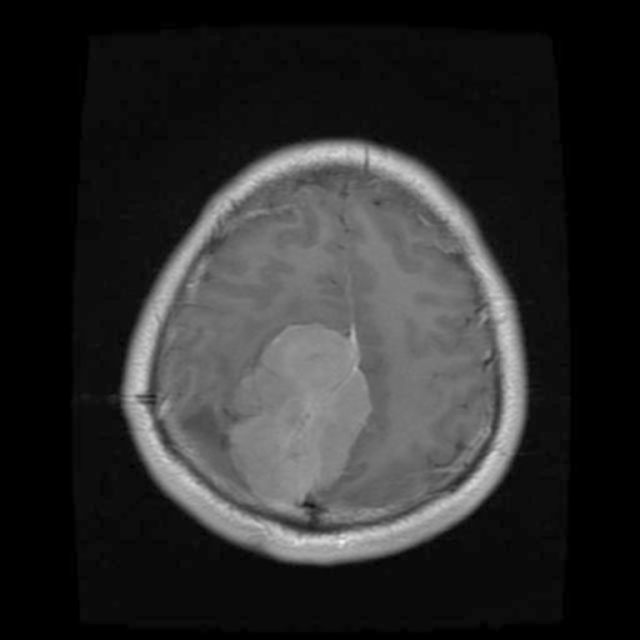meningioma tumor: (209, 320, 386, 524)
